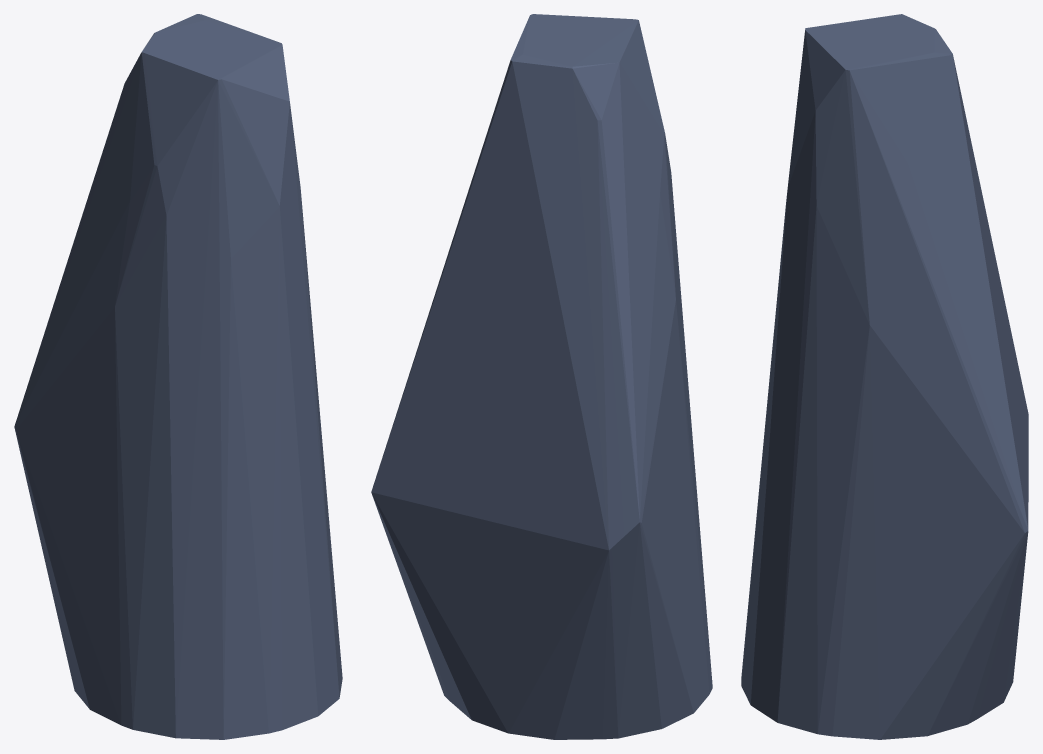
The model's file is creature_smear_corn_husk.glb.
3 renders of one model, left to right at view 1: azimuth 30°, elevation 25°; view 2: azimuth 150°, elevation 25°; view 3: azimuth 270°, elevation 25°, orthographic.
Parts seen in each view (by area): view 1: Smear; view 2: Smear; view 3: Smear.
Part boxes in pixels (x1,y1,x2,y2): Smear: (14,14,342,739); Smear: (371,14,712,739); Smear: (741,14,1028,739).
Size of the model in its own units: 1.02 by 2.41 by 0.974.
